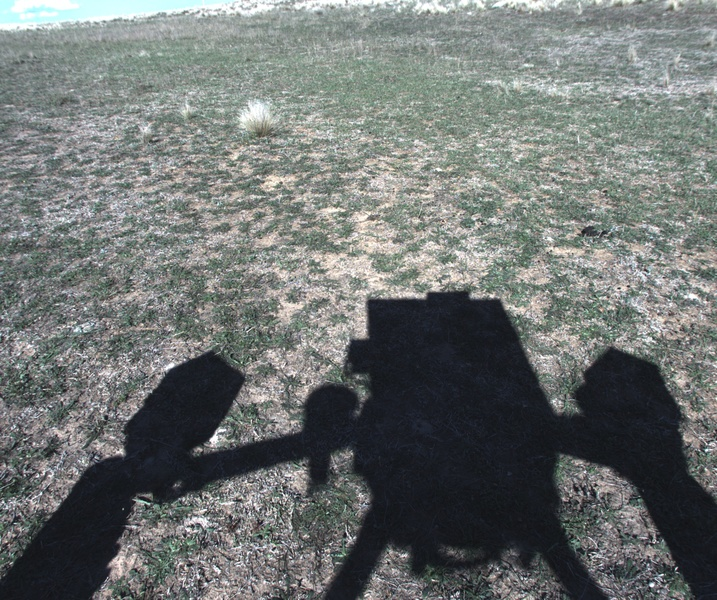st: (233, 99, 286, 140), (132, 123, 155, 151), (180, 99, 197, 118)
